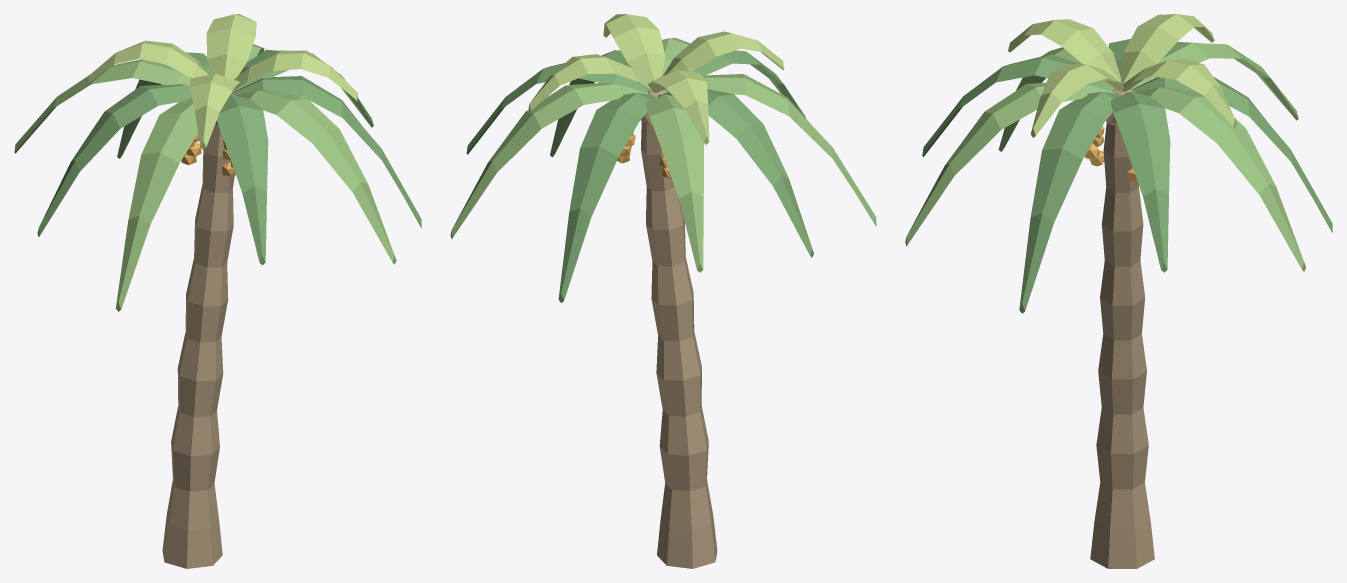
Rendered from Tree_Palm.fbx.
3 renders of one model, left to right at view 1: azimuth 30°, elevation 25°; view 2: azimuth 150°, elevation 25°; view 3: azimuth 270°, elevation 25°, orthographic. The views are drawn at different scales.
Visible parts, largest first — view 1: Tree_Palm; view 2: Tree_Palm; view 3: Tree_Palm.
Boxes of the visible parts, x1,y1,x2,y2 form: Tree_Palm: (14, 14, 421, 568); Tree_Palm: (450, 14, 876, 568); Tree_Palm: (905, 14, 1332, 568).
Size of the model in its own units: 3.75 by 5.29 by 3.87.
